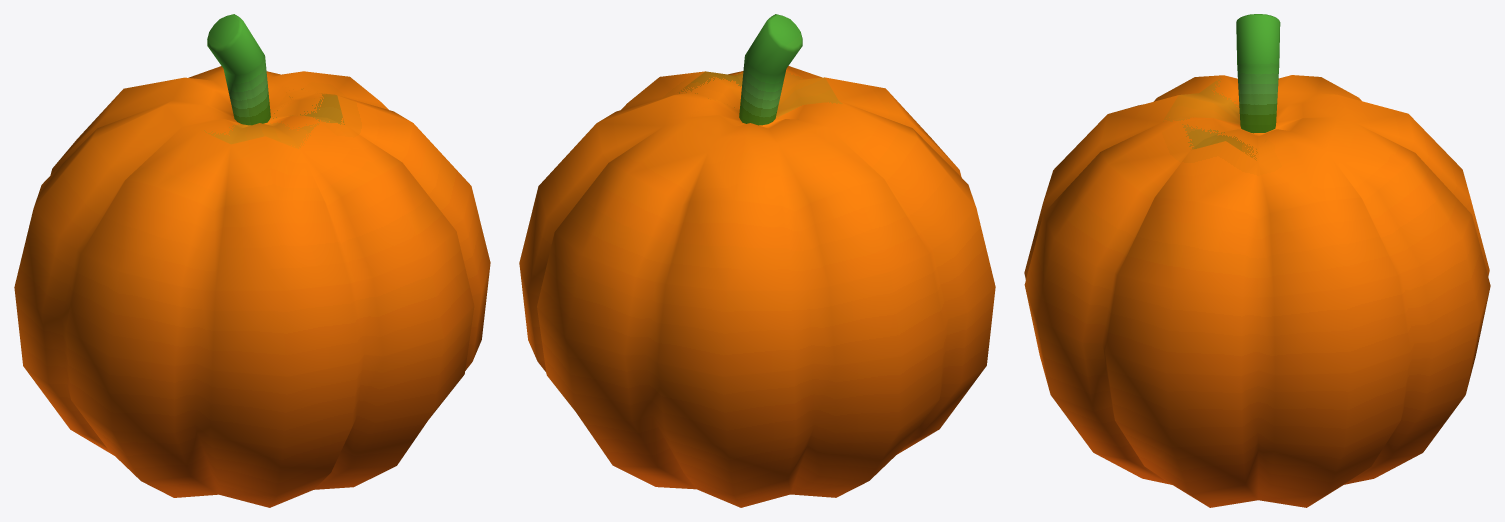
File: pumpkin.fbx
3 renders of one model, left to right at view 1: azimuth 30°, elevation 25°; view 2: azimuth 150°, elevation 25°; view 3: azimuth 270°, elevation 25°, orthographic.
Visible parts, largest first — view 1: COLOR1, COLOR2; view 2: COLOR1, COLOR2; view 3: COLOR1, COLOR2.
Boxes of the visible parts, x1,y1,x2,y2 form: COLOR1: (14, 66, 490, 507); COLOR2: (207, 14, 270, 125); COLOR1: (519, 66, 995, 507); COLOR2: (739, 14, 802, 125); COLOR1: (1024, 75, 1490, 507); COLOR2: (1236, 14, 1280, 132).
Bounding box in the file's own units: 183 × 195 × 187.
1 material, 1 textured.
